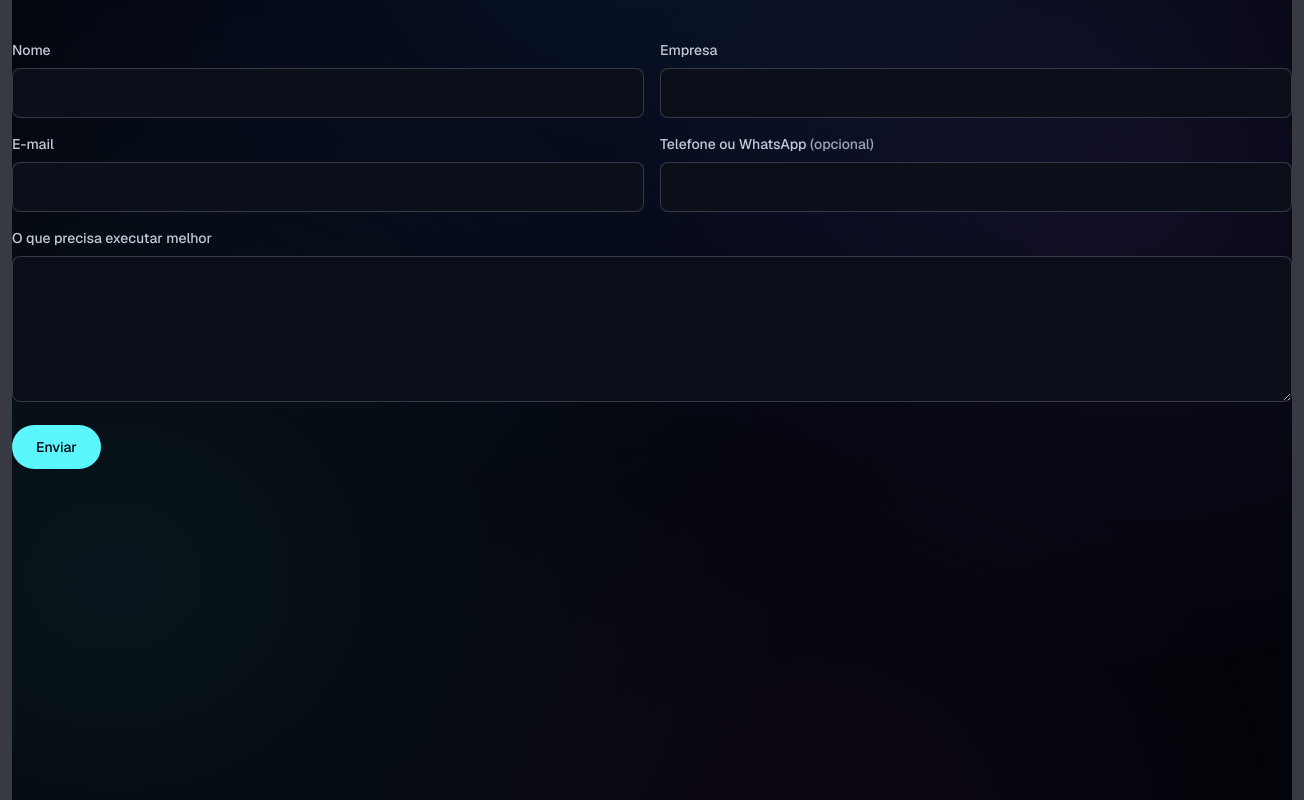
formulário de contato › recusa envio incompleto e aponta o erro
Click the button "Enviar" at (56, 447), box [12,425,101,469]
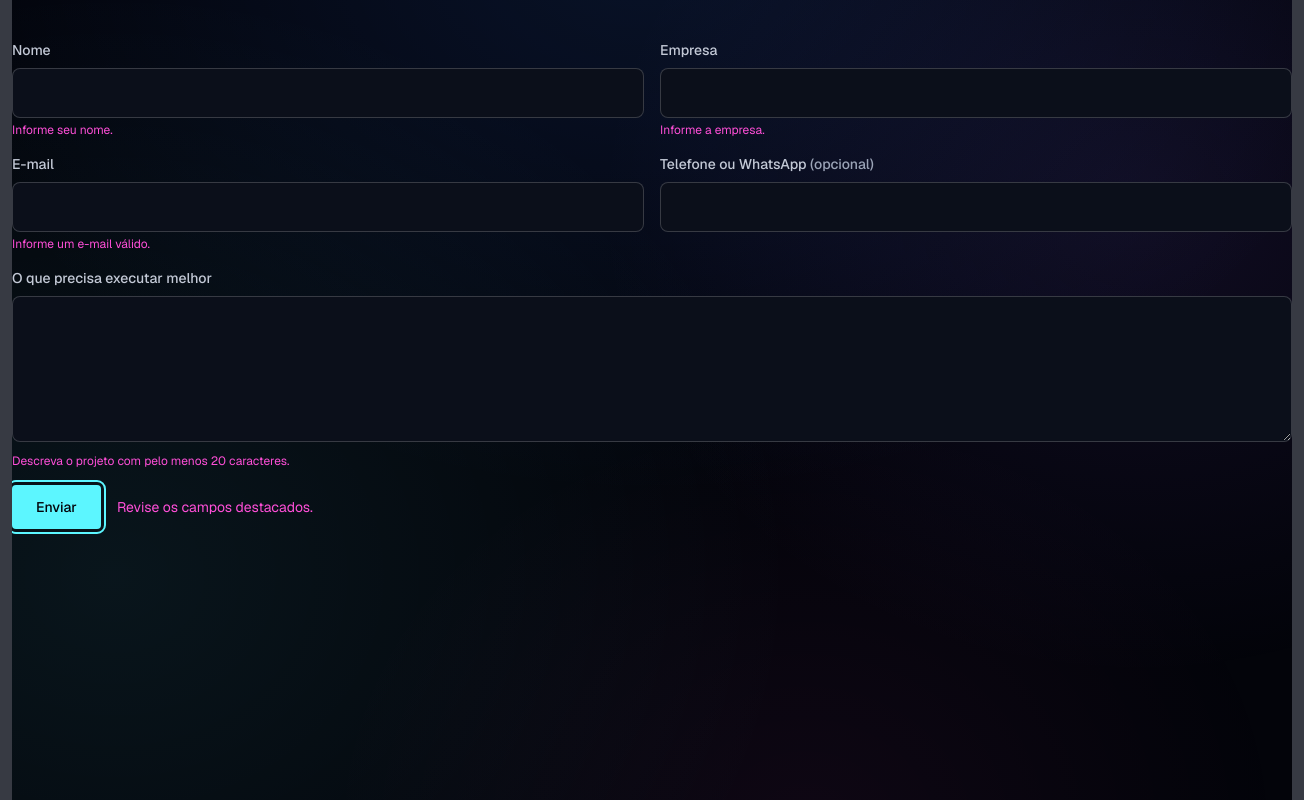
expect the text "Informe seu nome." is shown: met, box [12,122,113,138]
